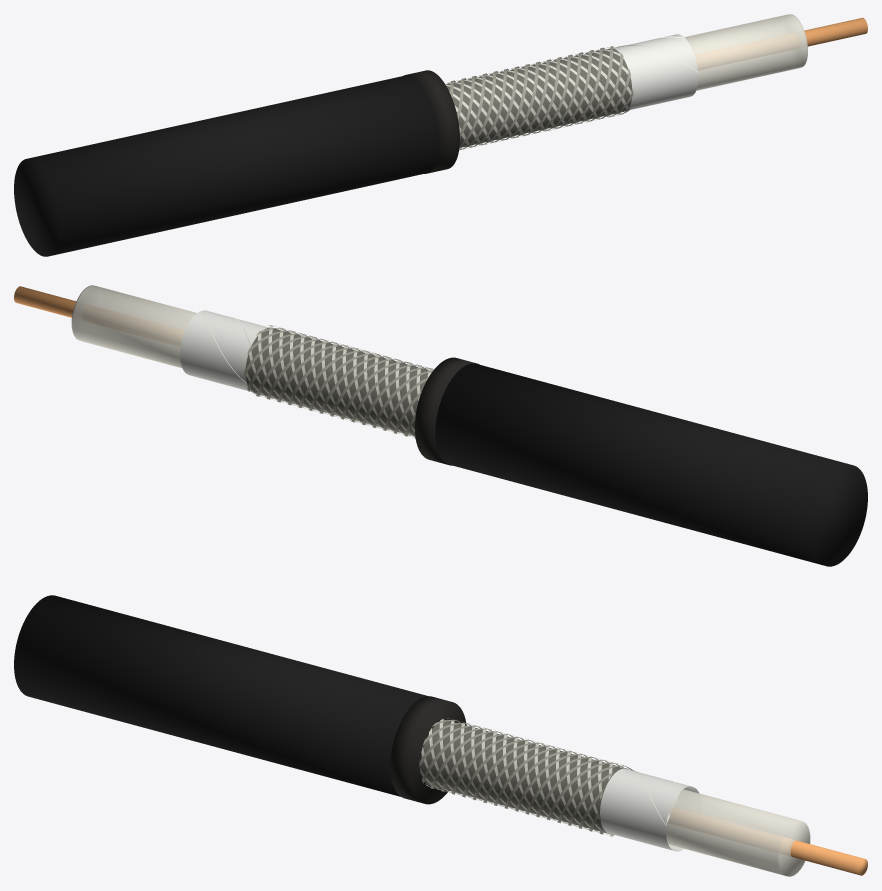
The model's file is rf-lmr100.glb.
The picture shows the model from 3 angles, top to bottom: view 1: azimuth 30°, elevation 25°; view 2: azimuth 150°, elevation 25°; view 3: azimuth 330°, elevation 25°; orthographic projection. The views are drawn at different scales.
Visible parts, largest first — view 1: matte black pvc jacket body, braid dark diamond recess, gas injected foam dielectric, smooth dielectric skin, duobond foil sleeve, jacket cut lip, solid center conductor continuous, braid left hand woven carrier 01, braid left hand woven carrier 02, braid left hand woven carrier 10, braid left hand woven carrier 03, braid left hand woven carrier 09; view 2: matte black pvc jacket body, braid dark diamond recess, gas injected foam dielectric, smooth dielectric skin, duobond foil sleeve, jacket cut lip, solid center conductor continuous, braid left hand woven carrier 08, braid left hand woven carrier 09, braid left hand woven carrier 07; view 3: matte black pvc jacket body, gas injected foam dielectric, braid dark diamond recess, smooth dielectric skin, duobond foil sleeve, jacket cut lip, solid center conductor continuous, braid left hand woven carrier 10, braid left hand woven carrier 01, braid left hand woven carrier 02, braid left hand woven carrier 09.
Boxes of the visible parts, box(x1,y1,x2,y2) form: matte black pvc jacket body: box(14, 75, 439, 256); braid dark diamond recess: box(446, 48, 632, 147); gas injected foam dielectric: box(685, 14, 807, 90); smooth dielectric skin: box(684, 14, 806, 90); duobond foil sleeve: box(613, 34, 698, 109); jacket cut lip: box(403, 70, 459, 173); solid center conductor continuous: box(804, 17, 867, 46); braid left hand woven carrier 01: box(459, 47, 604, 150); braid left hand woven carrier 02: box(459, 46, 613, 149); braid left hand woven carrier 10: box(459, 50, 593, 146); braid left hand woven carrier 03: box(470, 52, 623, 147); braid left hand woven carrier 09: box(460, 52, 583, 137); matte black pvc jacket body: box(435, 363, 867, 566); braid dark diamond recess: box(245, 327, 431, 436); gas injected foam dielectric: box(71, 285, 196, 367); smooth dielectric skin: box(73, 285, 196, 368); duobond foil sleeve: box(180, 310, 268, 391); jacket cut lip: box(414, 357, 479, 465); solid center conductor continuous: box(14, 286, 75, 317); braid left hand woven carrier 08: box(256, 339, 434, 425); braid left hand woven carrier 09: box(247, 336, 433, 422); braid left hand woven carrier 07: box(266, 342, 432, 427); matte black pvc jacket body: box(14, 595, 428, 796); gas injected foam dielectric: box(666, 789, 810, 876); braid dark diamond recess: box(420, 720, 628, 834); smooth dielectric skin: box(666, 789, 799, 875); duobond foil sleeve: box(600, 768, 699, 851); jacket cut lip: box(390, 696, 466, 804); solid center conductor continuous: box(778, 837, 867, 875); braid left hand woven carrier 10: box(430, 731, 619, 817); braid left hand woven carrier 01: box(441, 734, 632, 820); braid left hand woven carrier 02: box(451, 737, 624, 823); braid left hand woven carrier 09: box(422, 728, 608, 814).
Bounding box in the file's own units: 6.51 × 0.7045 × 0.8373.
